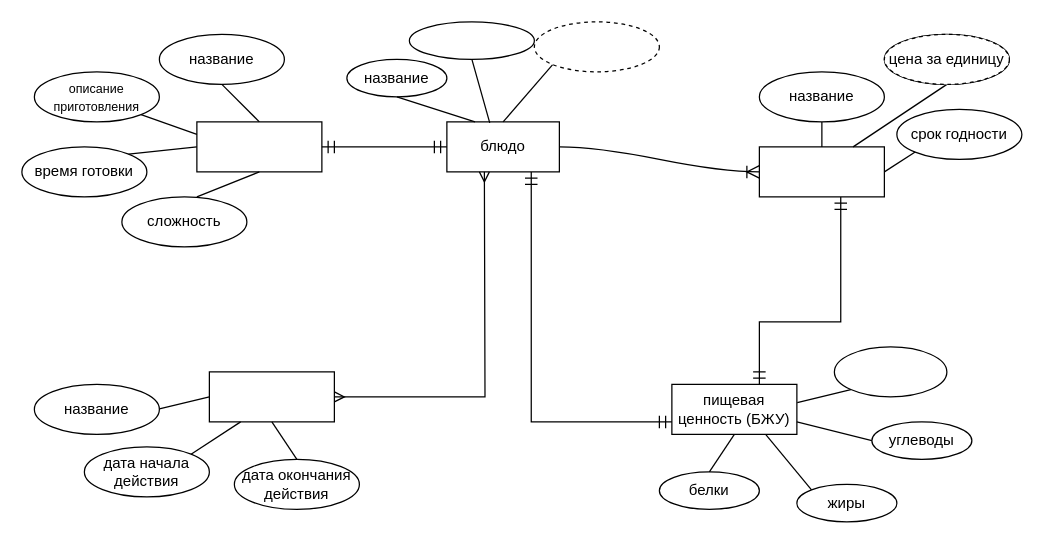
This 1044x544 diagram has some shape labels left out. Here are the shapes that lost their labels. From the top down, the box of each, then its label:
(408, 21, 534, 59): категория
(533, 21, 659, 72): фотография
(196, 121, 322, 172): рецепт
(758, 146, 884, 197): продукт
(833, 346, 947, 397): калорийность
(208, 371, 334, 422): меню
